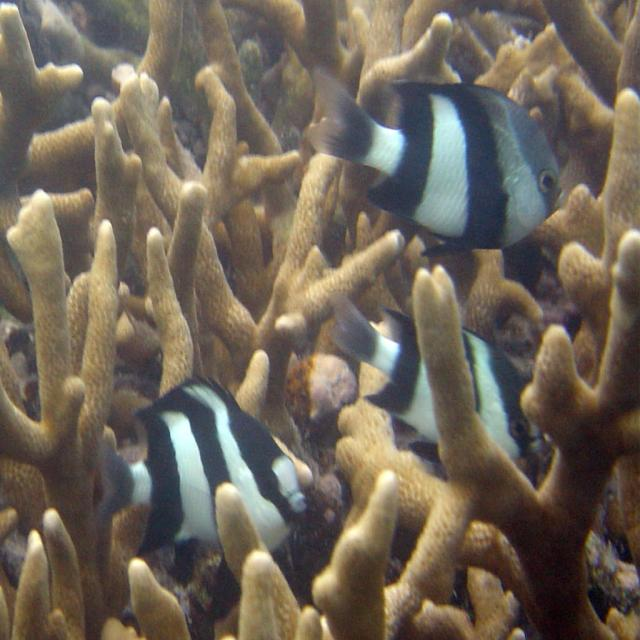Three_striped DasmselFish: (314, 70, 561, 248), (323, 289, 536, 464), (98, 381, 308, 537)
